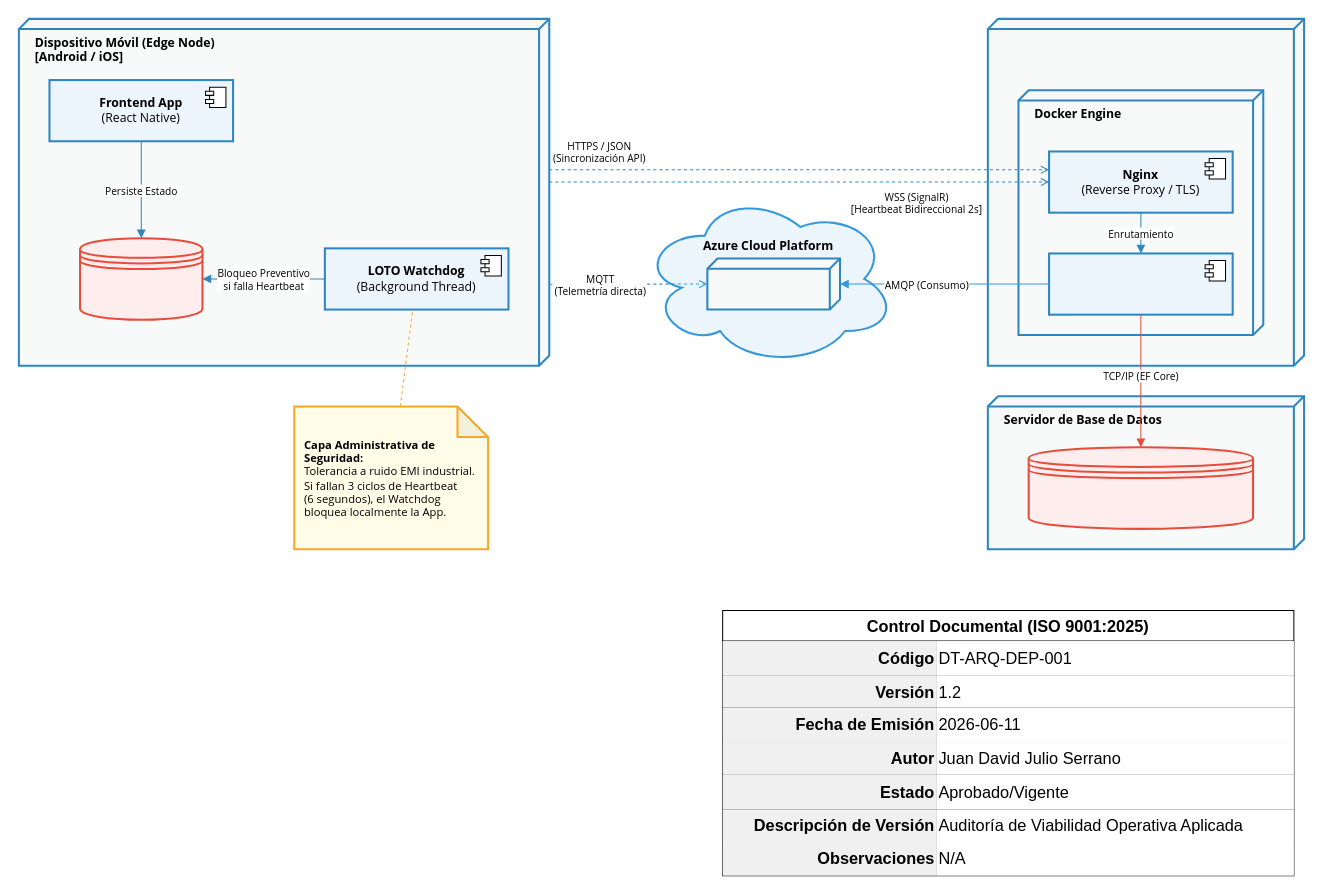
Some shapes in this 1322 by 894 pixel diagram are drawn without their labels. Here are the shapes that lost their labels. From the top down, the box of each, then its label:
(986, 17, 1305, 366): Servidor Cloud Host [Ubuntu Linux VPS]
(79, 237, 203, 320): Local DB (SQLite / WatermelonDB)
(706, 257, 840, 310): Azure IoT Hub
(1048, 252, 1233, 315): Backend API Monolith (.NET 10)
(1027, 446, 1254, 529): PostgreSQL 16 + TimescaleDB Extension
